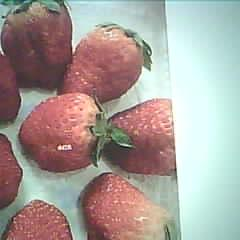straw-ripe: (21, 94, 102, 170), (59, 26, 143, 96), (85, 173, 172, 240), (107, 99, 177, 177)
